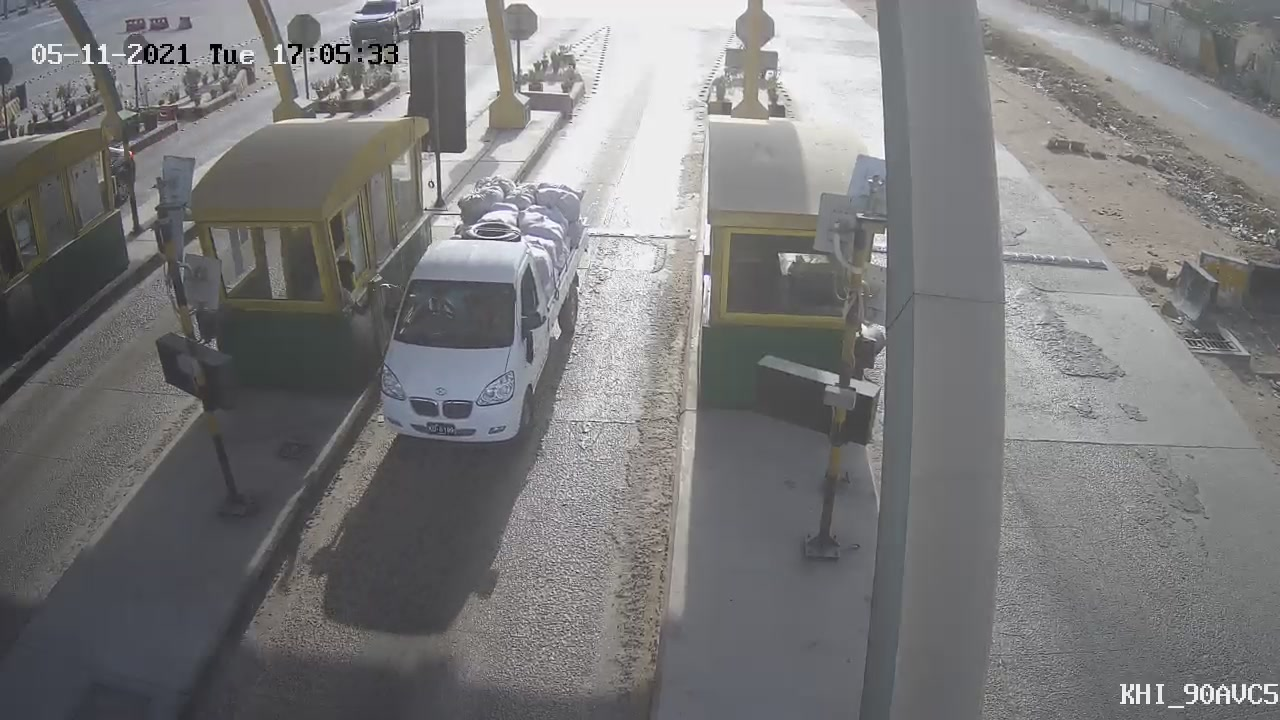F2: (344, 156, 611, 472)
